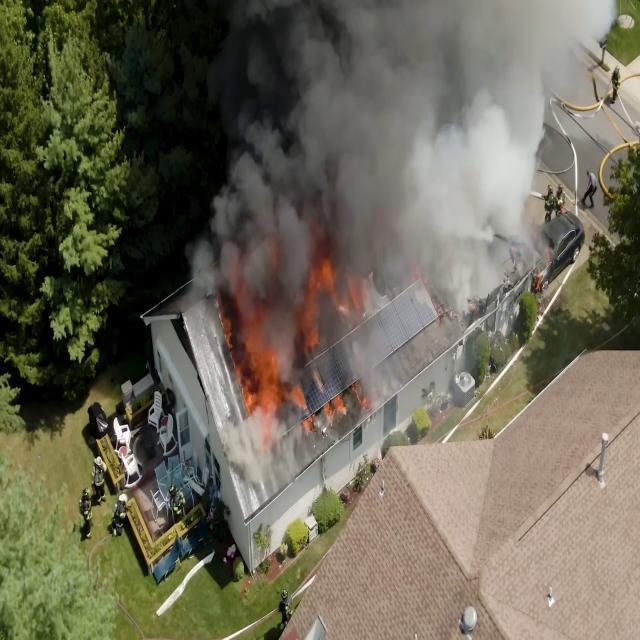Fire: (219, 273, 297, 418), (304, 249, 352, 357)
Smoke: (305, 0, 515, 223)
